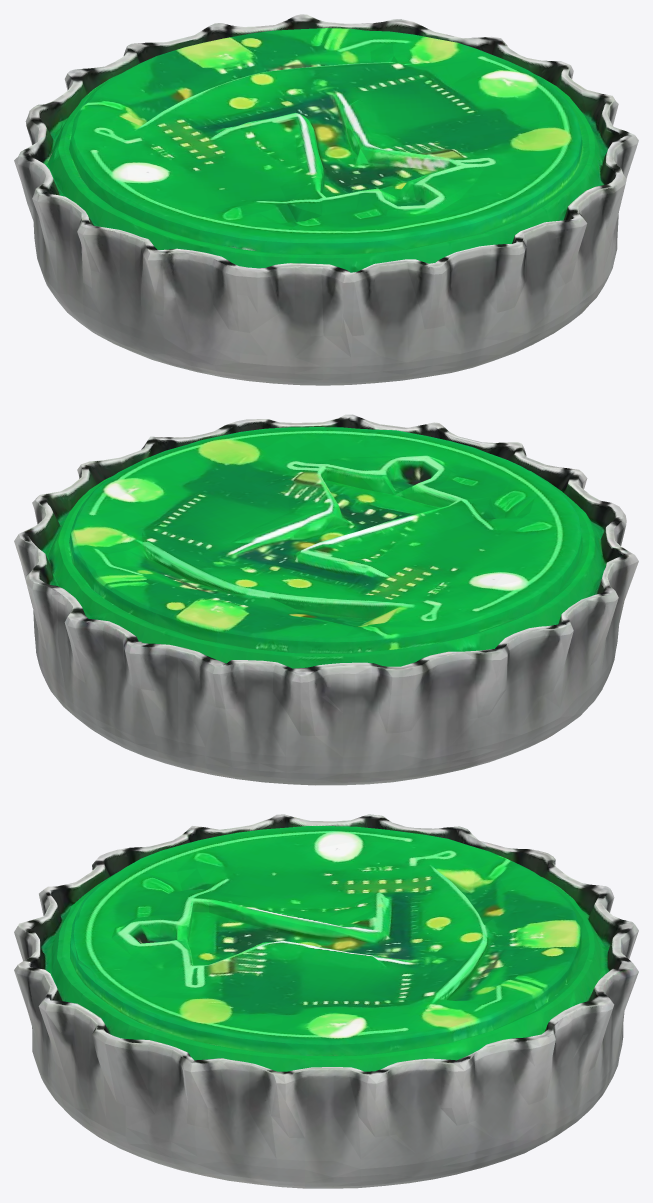
The model's file is triki.glb.
The picture shows the model from 3 angles, top to bottom: view 1: azimuth 30°, elevation 25°; view 2: azimuth 150°, elevation 25°; view 3: azimuth 270°, elevation 25°; orthographic projection.
Bounding box in the file's own units: 1.89 × 0.4814 × 1.88.
Materials: 1 (1 with a texture image).
